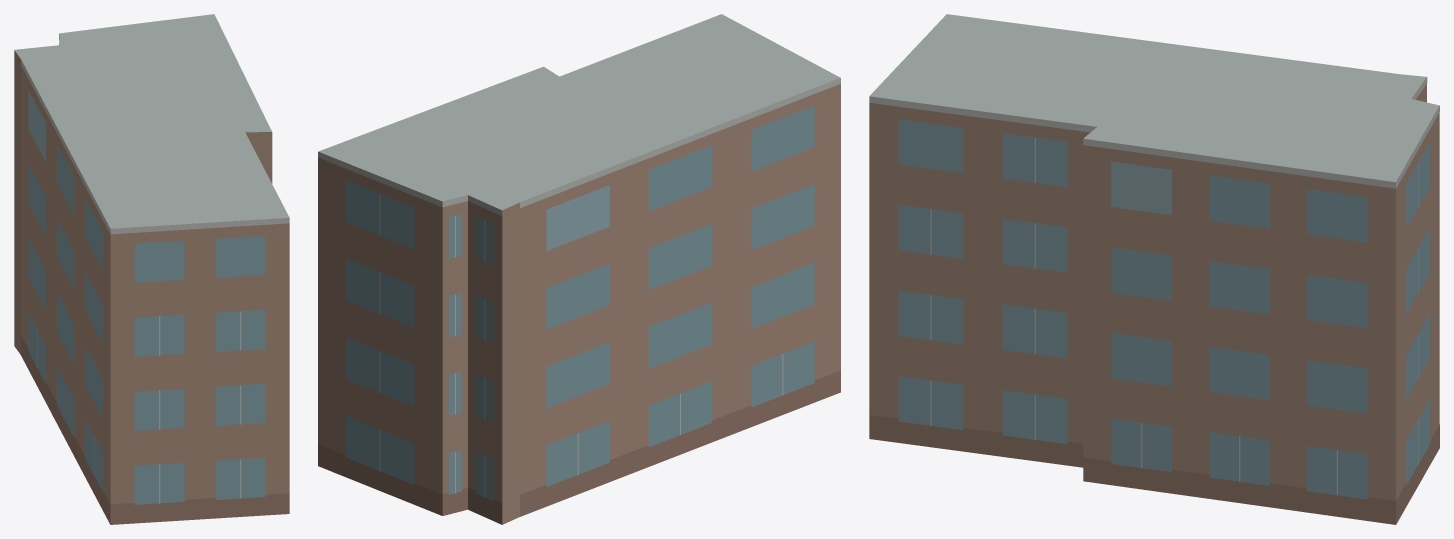
Rendered from survey-upis-32846345.glb.
The picture shows the model from 3 angles, left to right: view 1: azimuth 30°, elevation 25°; view 2: azimuth 150°, elevation 25°; view 3: azimuth 270°, elevation 25°; orthographic projection. The views are drawn at different scales.
Visible parts, largest first — view 1: survey-upis-32846345.tmp; view 2: survey-upis-32846345.tmp; view 3: survey-upis-32846345.tmp.
Boxes of the visible parts, left/top/right/bottom form: survey-upis-32846345.tmp: left=14, top=14, right=289, bottom=524; survey-upis-32846345.tmp: left=318, top=14, right=840, bottom=524; survey-upis-32846345.tmp: left=869, top=14, right=1439, bottom=524.
Size of the model in its own units: 13.7 by 13 by 19.63.
